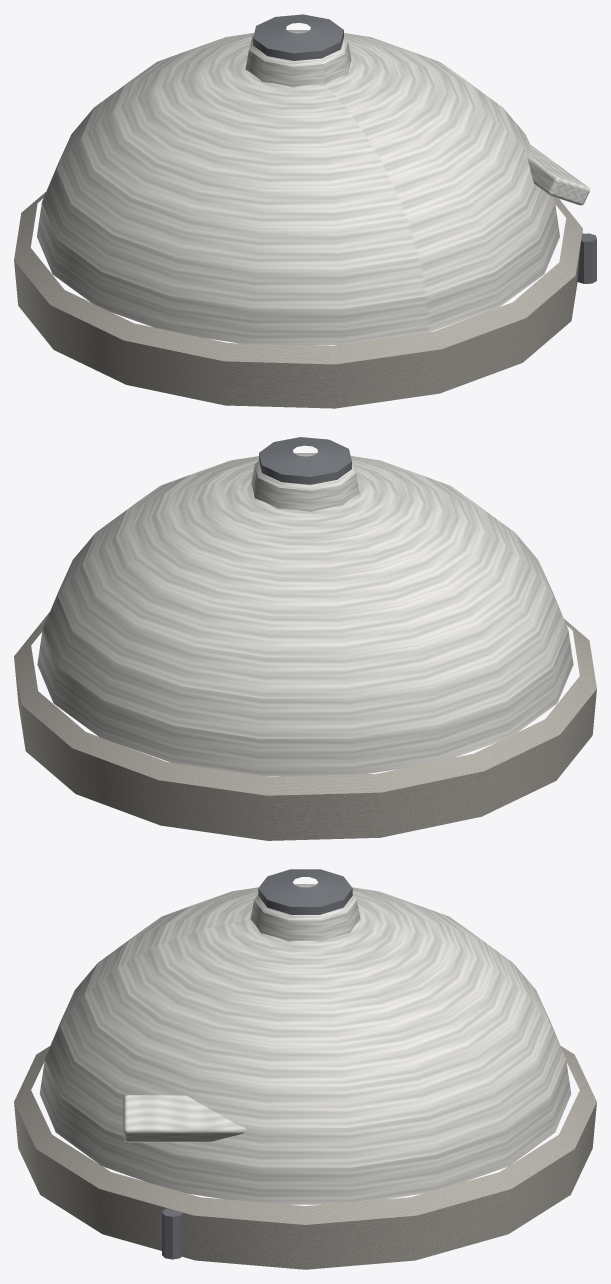
Rendered from greek-island-village-and-harbour-cistern-dome-17ba1d96__37071.glb.
3 renders of one model, top to bottom at view 1: azimuth 30°, elevation 25°; view 2: azimuth 150°, elevation 25°; view 3: azimuth 270°, elevation 25°, orthographic. The views are drawn at different scales.
Parts seen in each view (by area): view 1: cistern-dome; view 2: cistern-dome; view 3: cistern-dome.
Part boxes in pixels (left/top/right/bottom): cistern-dome: left=14, top=14, right=596, bottom=408; cistern-dome: left=14, top=437, right=596, bottom=840; cistern-dome: left=14, top=869, right=596, bottom=1269.
Bounding box in the file's own units: 2.72 × 1.37 × 2.72.
3 materials, 2 textured.
